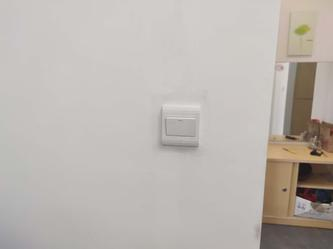switch: (164, 115, 198, 137)
